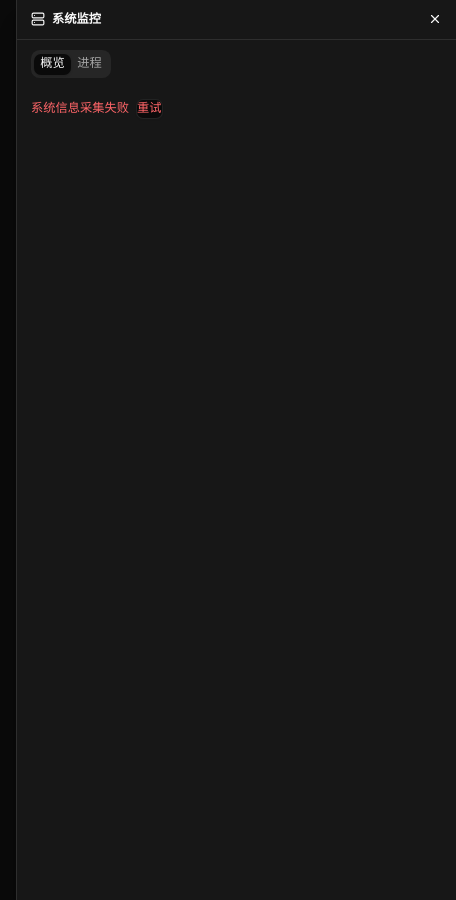
SystemPanel › shows collection errors without throwing and supports retry
Check: the message shows "系统信息采集失败", box [31,101,129,115]
Click the button "重试".
click(149, 109)  # box [136,99,162,118]
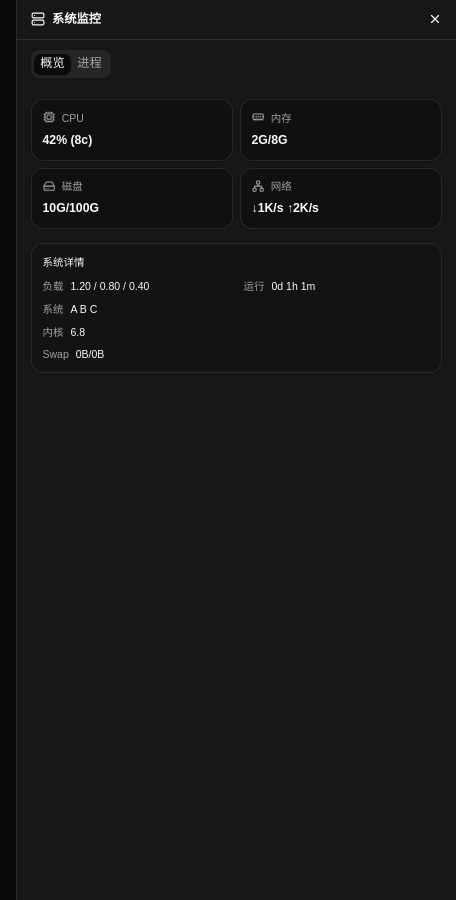
Check: the text "42% (8c)" is shown, box [42,132,92,146]
